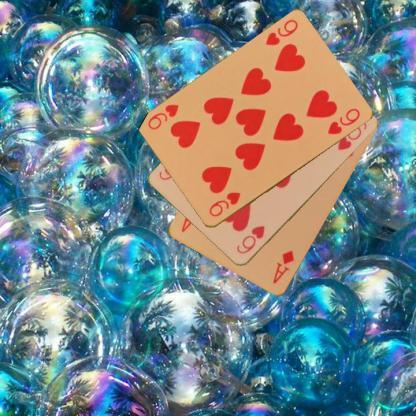6h: (233, 222, 266, 256)
9h: (262, 17, 300, 48), (206, 190, 242, 218)
Ad: (270, 248, 296, 286)
